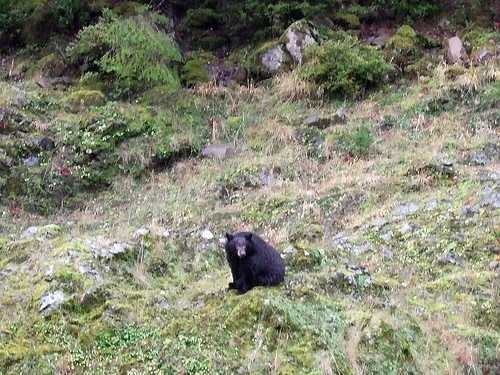bear: (189, 193, 317, 321)
